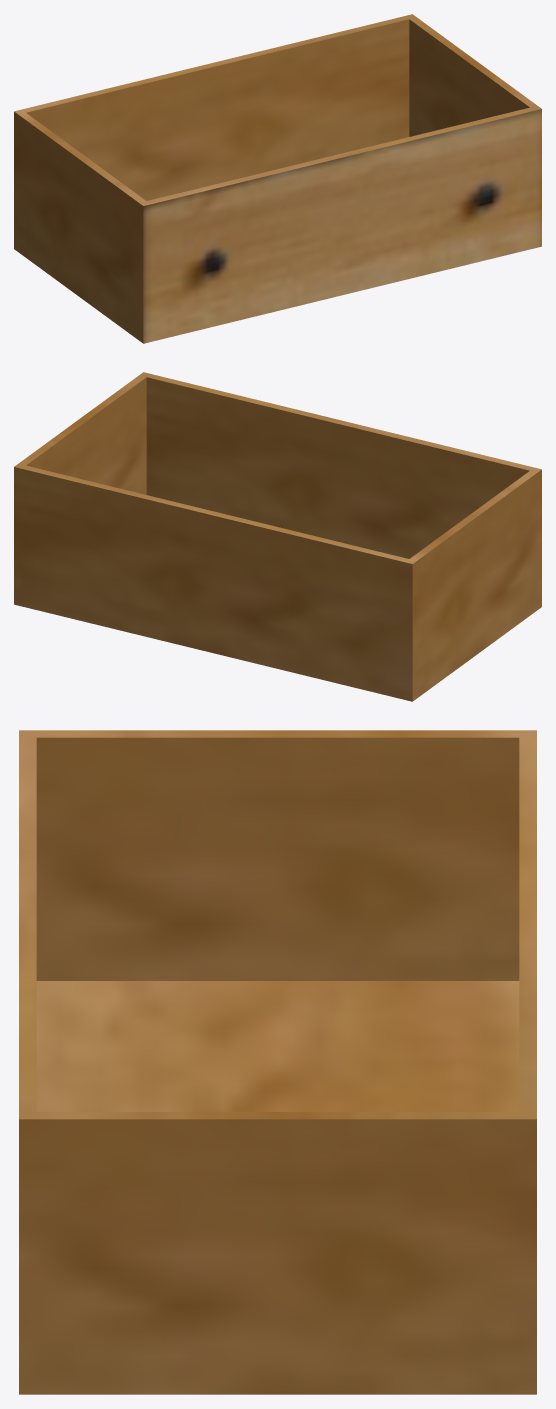
Rendered from Chest_drawers_04_003-col.glb.
The picture shows the model from 3 angles, top to bottom: view 1: azimuth 30°, elevation 25°; view 2: azimuth 150°, elevation 25°; view 3: azimuth 270°, elevation 25°; orthographic projection. The views are drawn at different scales.
Visible parts, largest first — view 1: Chest_drawers_04.003-col; view 2: Chest_drawers_04.003-col; view 3: Chest_drawers_04.003-col.
Boxes of the visible parts, x1,y1,x2,y2 form: Chest_drawers_04.003-col: (14, 14, 541, 343); Chest_drawers_04.003-col: (14, 372, 541, 701); Chest_drawers_04.003-col: (19, 730, 536, 1394).
Bounding box in the file's own units: 0.6732 × 0.2223 × 0.3788.
1 material, 1 textured.
